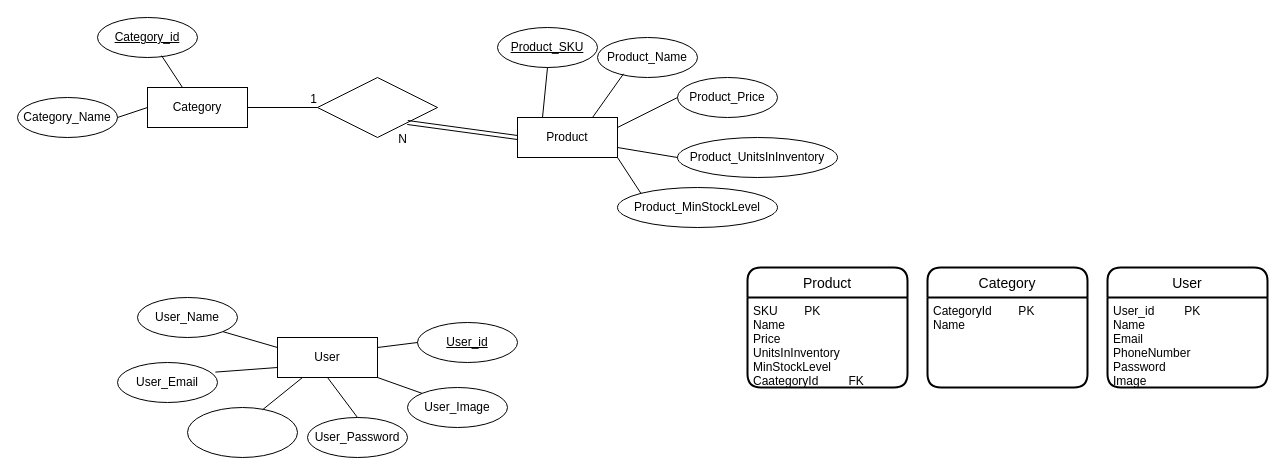
Some shapes in this 1286 by 475 pixel diagram are drawn without their labels. The centre of each missing label's shape, as x and y in pixels:
Has: the point at 377,107
User_PhoneNumber: the point at 242,432
